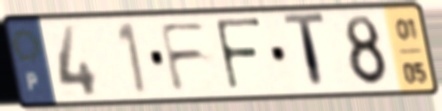1: (115, 19, 150, 98)
4: (54, 22, 104, 100)
8: (341, 12, 391, 90)
F: (156, 19, 212, 95), (212, 16, 265, 95)
T: (280, 10, 329, 95)
